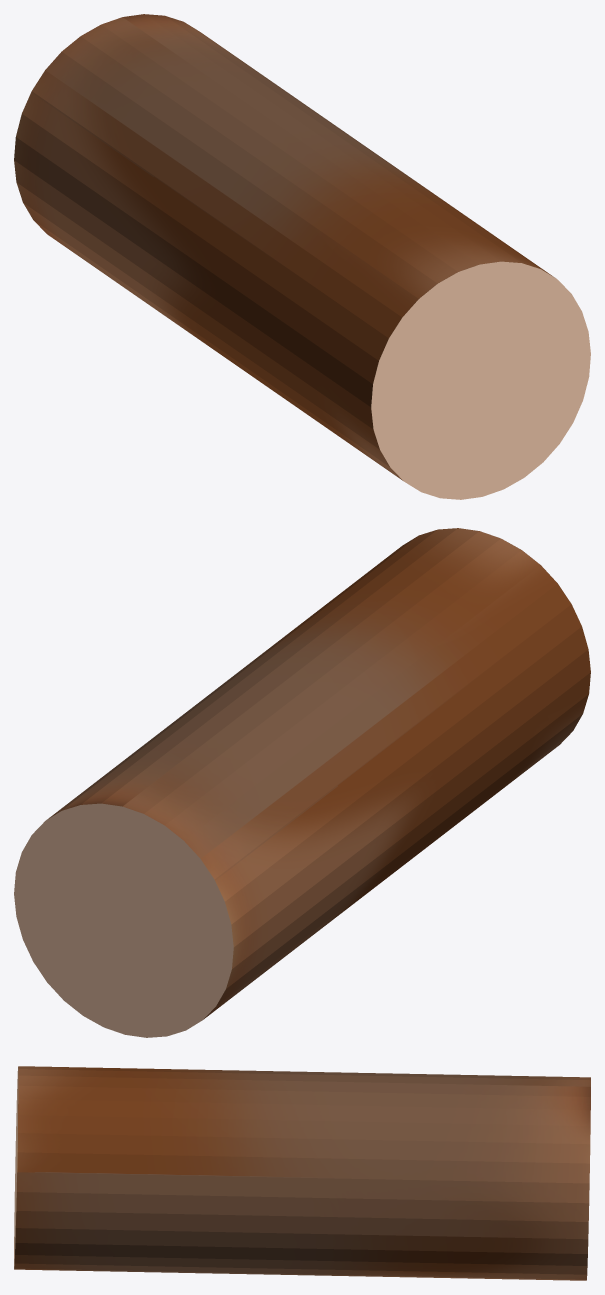
The model's file is Log.fbx.
3 views of the same model, one above another, from view 1: azimuth 30°, elevation 25°; view 2: azimuth 150°, elevation 25°; view 3: azimuth 270°, elevation 25° (orthographic). The views are drawn at different scales.
Parts seen in each view (by area): view 1: Cylinder; view 2: Cylinder; view 3: Cylinder.
Boxes of the visible parts, x1,y1,x2,y2 form: Cylinder: [14, 14, 590, 499]; Cylinder: [14, 528, 590, 1037]; Cylinder: [14, 1066, 590, 1280].
Bounding box in the file's own units: 200 × 212 × 567.
Materials: 1 (1 with a texture image).
